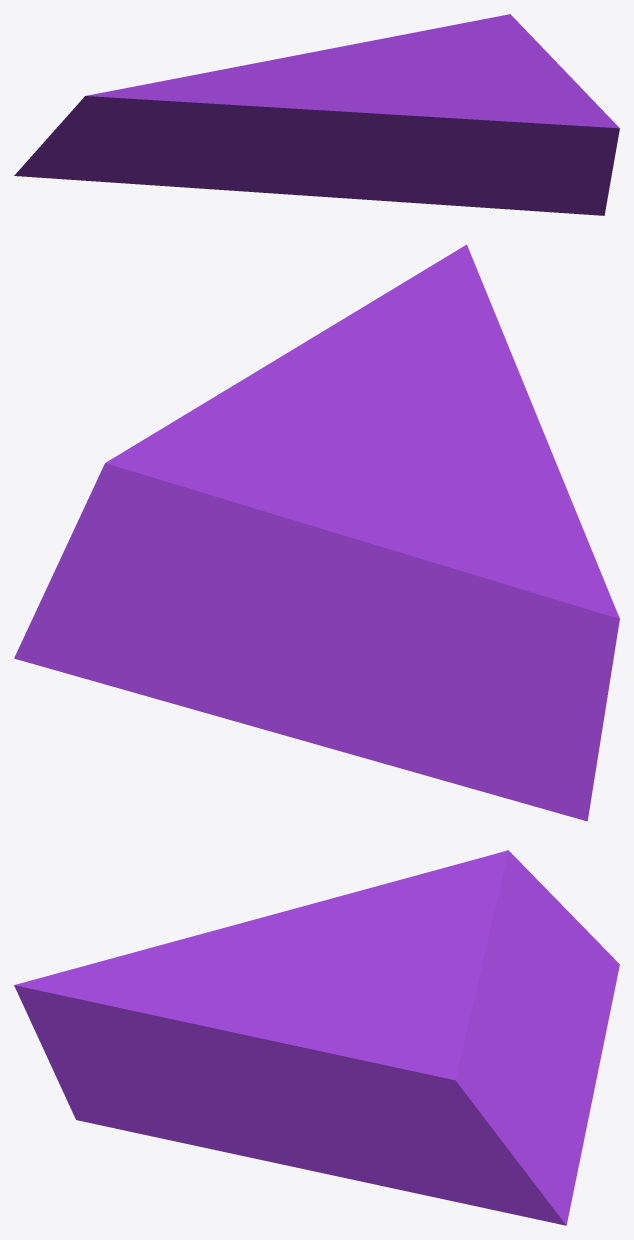
The model's file is Glass_100_2_2_chunks.fbx.
3 renders of one model, top to bottom at view 1: azimuth 30°, elevation 25°; view 2: azimuth 150°, elevation 25°; view 3: azimuth 270°, elevation 25°, orthographic. The views are drawn at different scales.
Parts seen in each view (by area): view 1: Glass_100_2_2_0; view 2: Glass_100_2_2_0; view 3: Glass_100_2_2_0.
Boxes of the visible parts, <box> form: Glass_100_2_2_0: <box>14,14,619,215</box>; Glass_100_2_2_0: <box>14,244,619,821</box>; Glass_100_2_2_0: <box>14,850,619,1225</box>.
Size of the model in its own units: 187 by 62.88 by 187.
